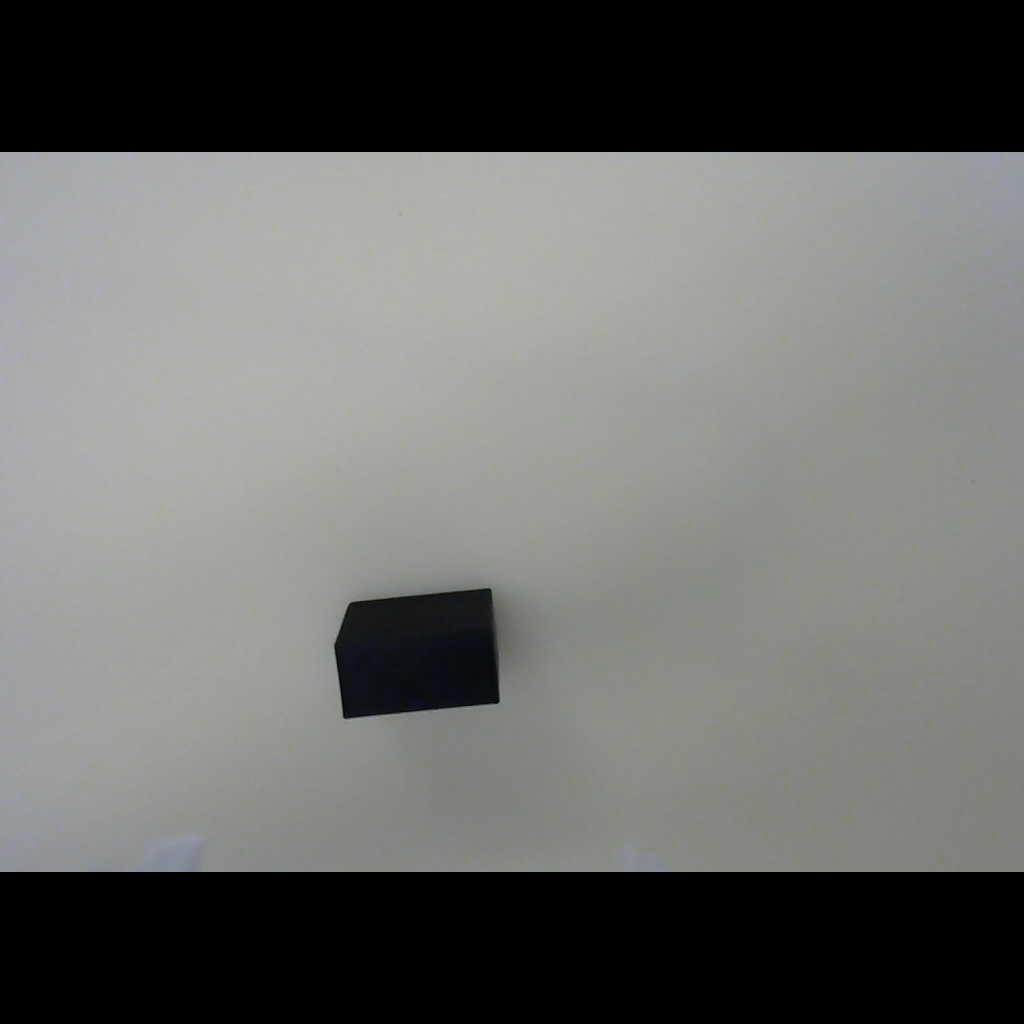rectangle: (313, 573, 517, 732)
